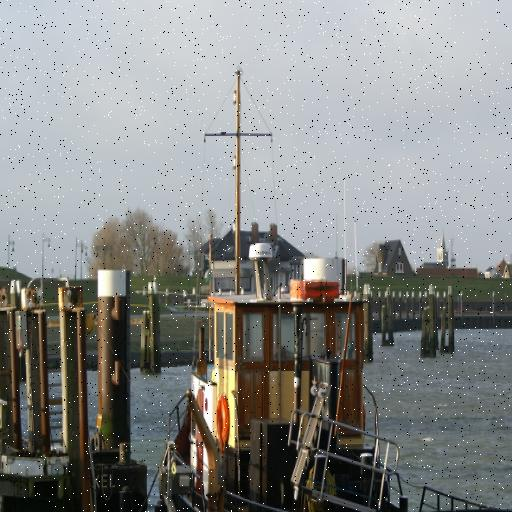tugboat: (160, 236, 512, 512)
